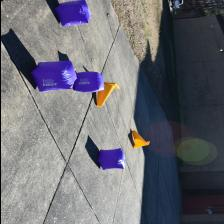cone: (96, 82, 120, 107), (131, 130, 149, 148)
cube: (30, 60, 76, 92), (54, 0, 92, 26), (96, 148, 124, 170), (73, 72, 103, 92)
